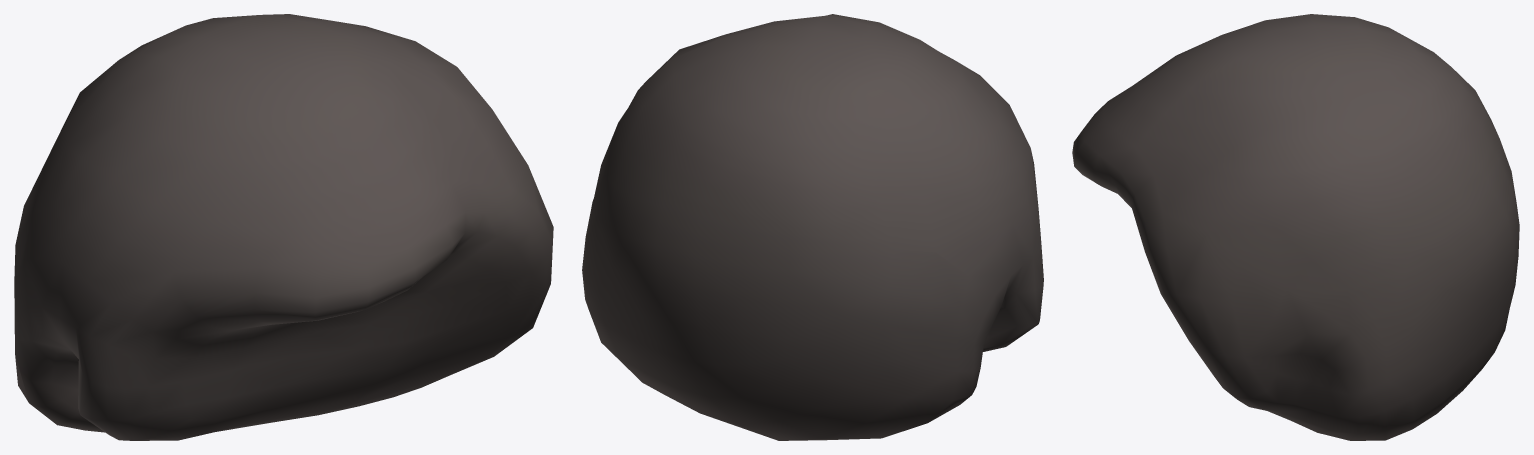
File: Hairstyle_Male_05.glb
The picture shows the model from 3 angles, left to right: view 1: azimuth 30°, elevation 25°; view 2: azimuth 150°, elevation 25°; view 3: azimuth 270°, elevation 25°; orthographic projection. The views are drawn at different scales.
Parts seen in each view (by area): view 1: Hairstyle_Male_05; view 2: Hairstyle_Male_05; view 3: Hairstyle_Male_05.
Part boxes in pixels (left/top/right/bottom): Hairstyle_Male_05: left=14, top=14, right=553, bottom=440; Hairstyle_Male_05: left=582, top=14, right=1043, bottom=440; Hairstyle_Male_05: left=1072, top=14, right=1519, bottom=440.
Bounding box in the file's own units: 0.6092 × 0.5017 × 0.5942.
Materials: 1 (1 with a texture image).
